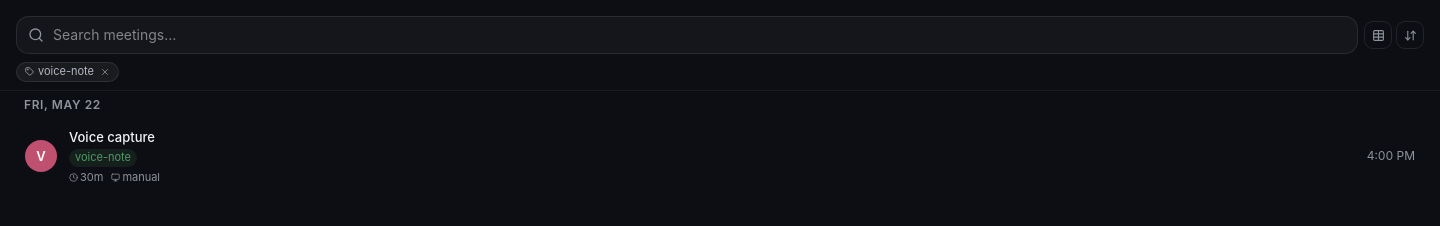
it: NotesList search (server-fused, plan v9 #10) › filters by the tag search param and clears it from the header chip
This screenshot has width=1440, height=226.
Expected: the text "Voice capture" is shown, [69,129,155,145]
Expected: the text "Weekly sync" is not shown
Click the button named "Stop filtering by tag voice-note" at (105, 72), box [100,67,110,77]
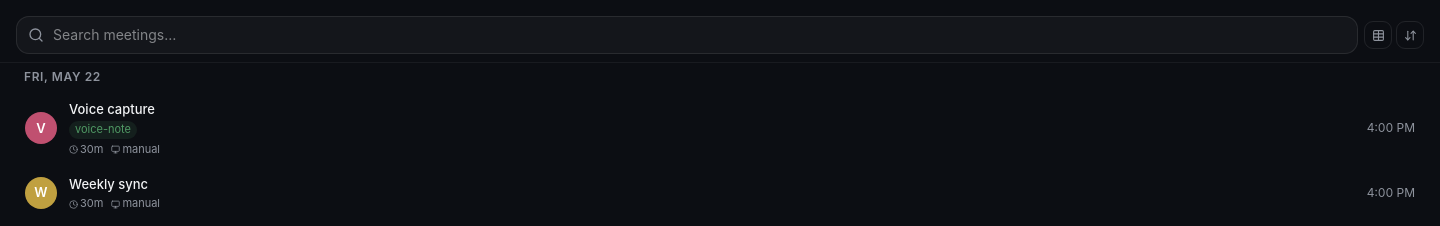
Result: the text "Weekly sync" is shown at [69,176,148,192]
